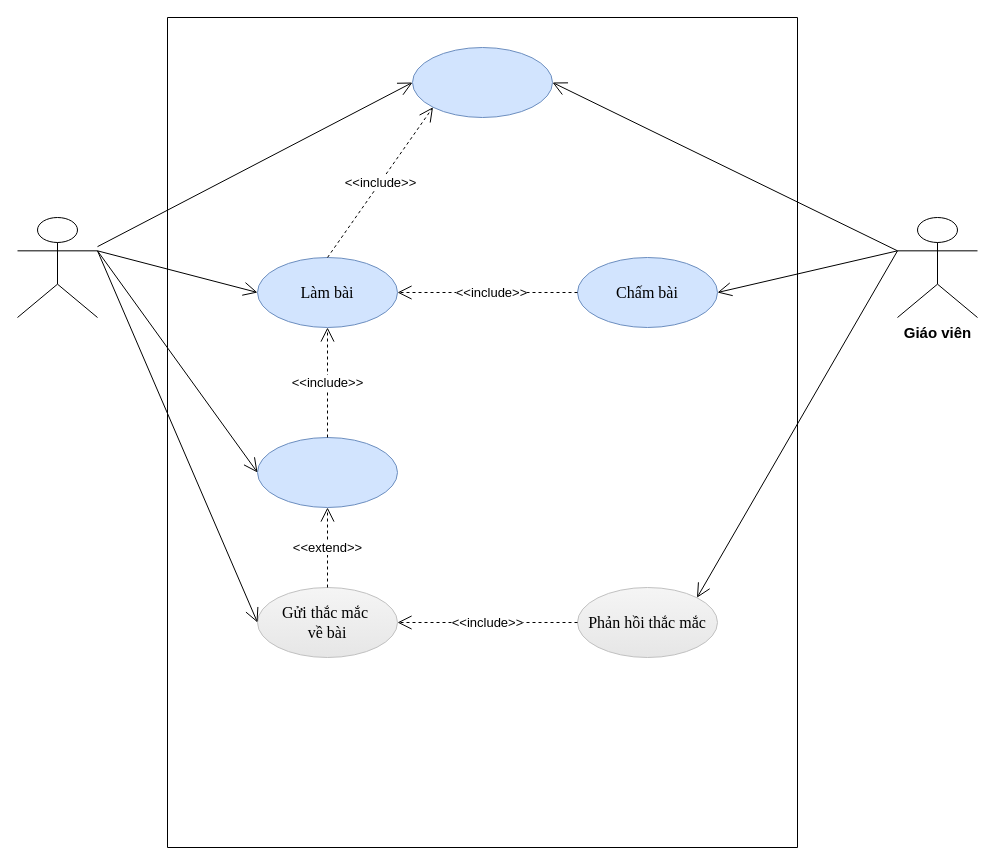
Image size: 995x865. Some labels were removed from this diagram. The shapes that lost their labels are listed below. From the top down, each one's centre as x and y in pixels, then its label:
At [482,82]: "Đăng nhập".
At [57,267]: "Học viên".
At [327,472]: "Xem kết quả bài làm".
